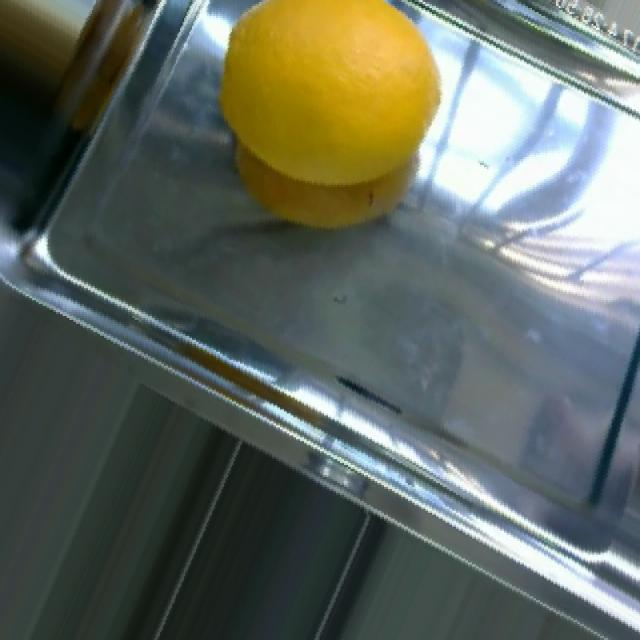Fruit: (201, 12, 463, 254)
